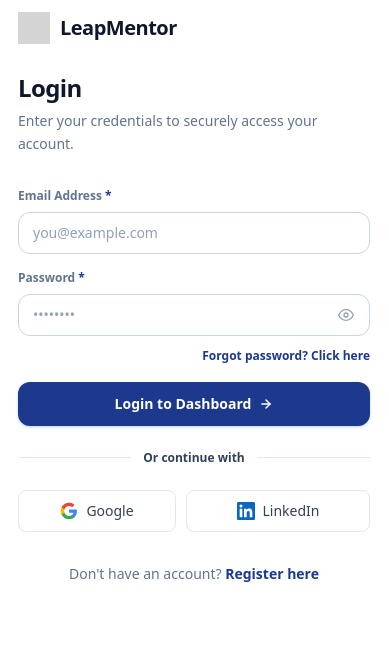
Test: LoginForm › falls back to mapServerErrorsToForm for generic/500 errors
Type "a@b.com" into the field with placeholder "you@example.com" at (194, 232), box [18,212,370,254]
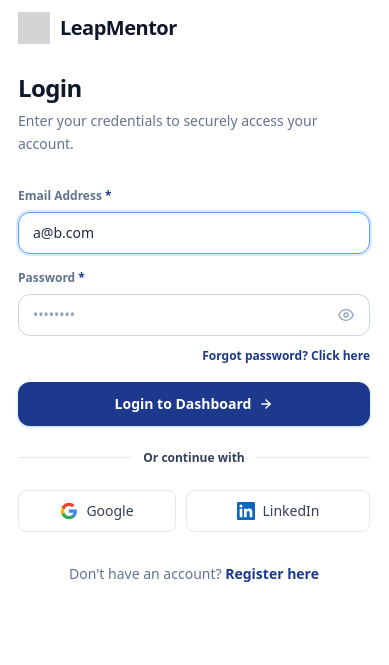
Type "password123" into the password field with placeholder "••••••••" at (194, 314), box [18,294,370,336]
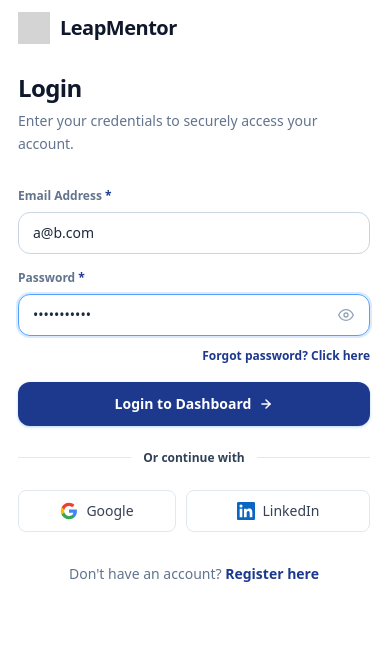
Click the button "Login to Dashboard" at (194, 404), box [18,382,370,426]
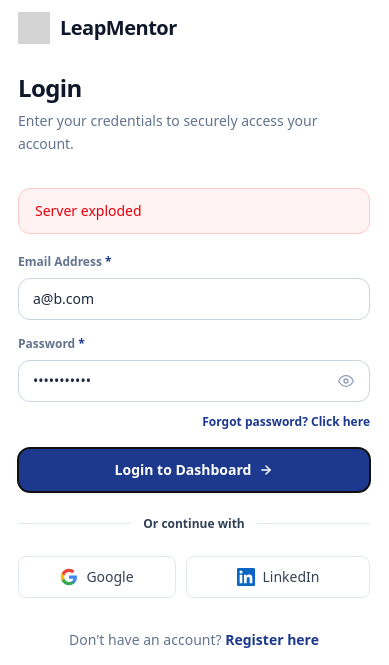
Expected: the text "Server exploded" is shown, [18,188,370,234]
